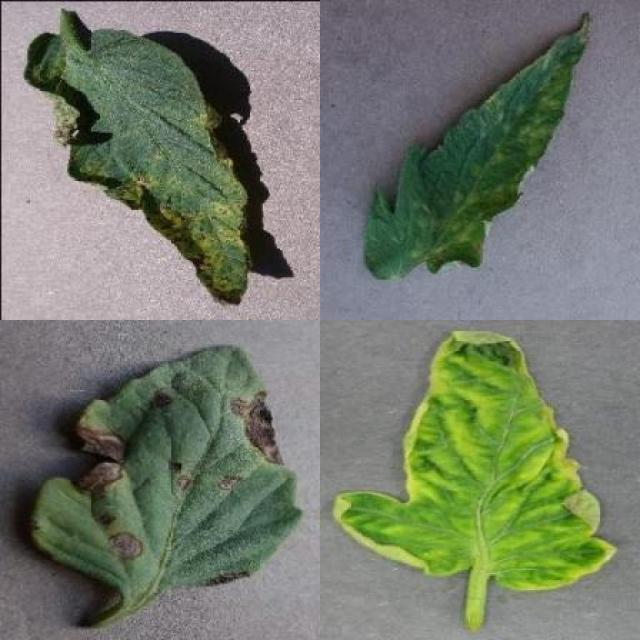Early Blight: (30, 345, 304, 592)
Leaf Mold: (363, 12, 590, 278)
Septoria: (22, 26, 248, 306)
Yellow Leaf Curl Virus: (332, 328, 618, 592)
